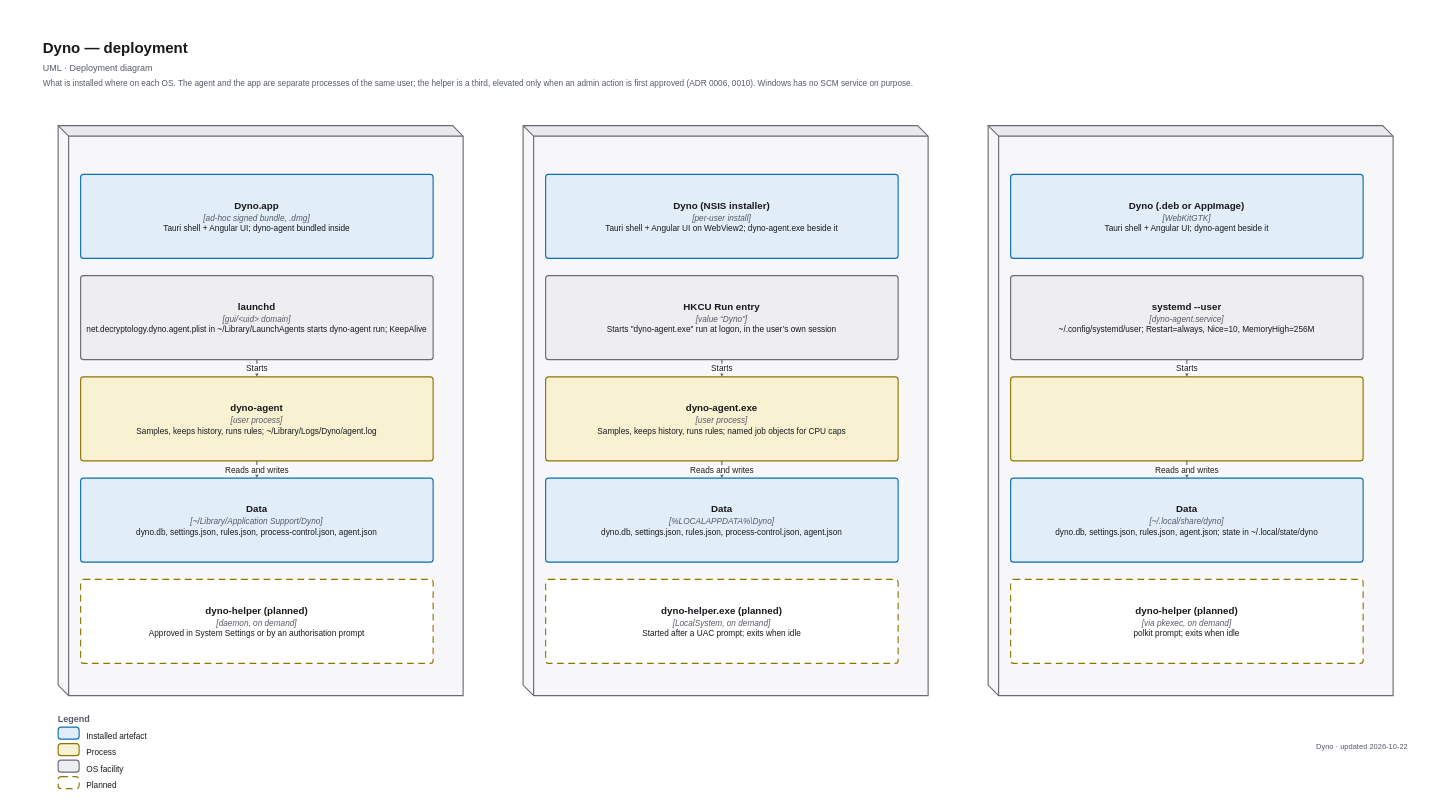
The diagram is 1451 pixels wide and 803 high, and some of its shapes have lost their labels. The shapes that lost their labels are listed below. From the top down, each one's box as (x1, y1, x2, y2) in pixels, then its label:
(57, 125, 463, 696): macOS 13+ Apple Silicon and Intel
(522, 125, 928, 696): Windows 10 / 11 x64
(1010, 376, 1363, 461): dyno-agent [user process] Samples from /proc and /sys, keeps history, runs rules
(987, 125, 1393, 696): Linux x86_64 and aarch64 desktops
